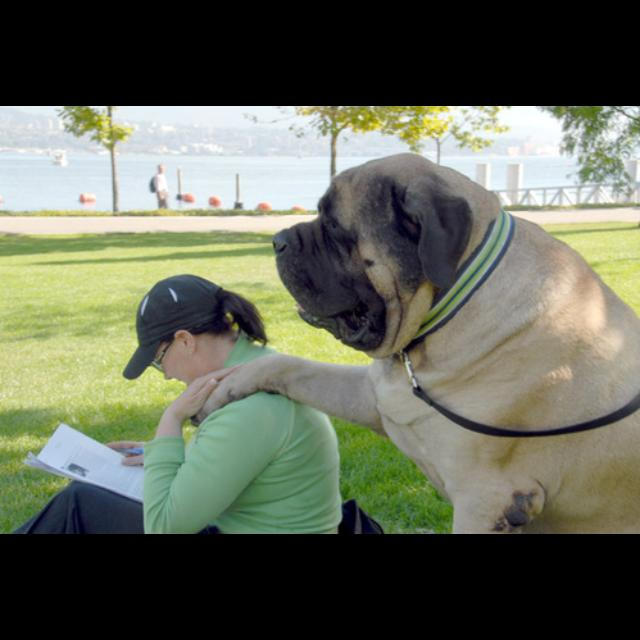mastiff: (190, 152, 640, 534)
person: (14, 275, 344, 536)
